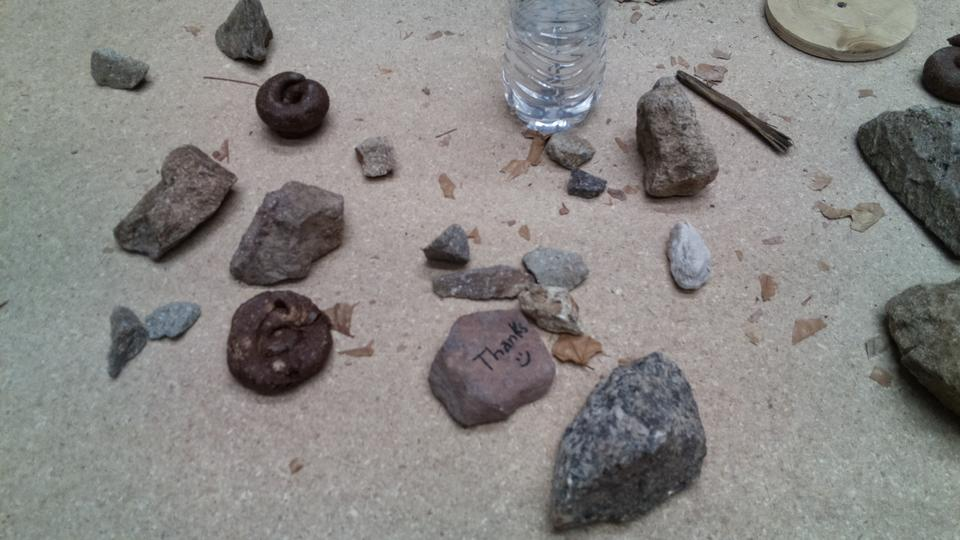poop: (225, 289, 335, 397), (254, 70, 331, 142), (921, 42, 960, 105)
